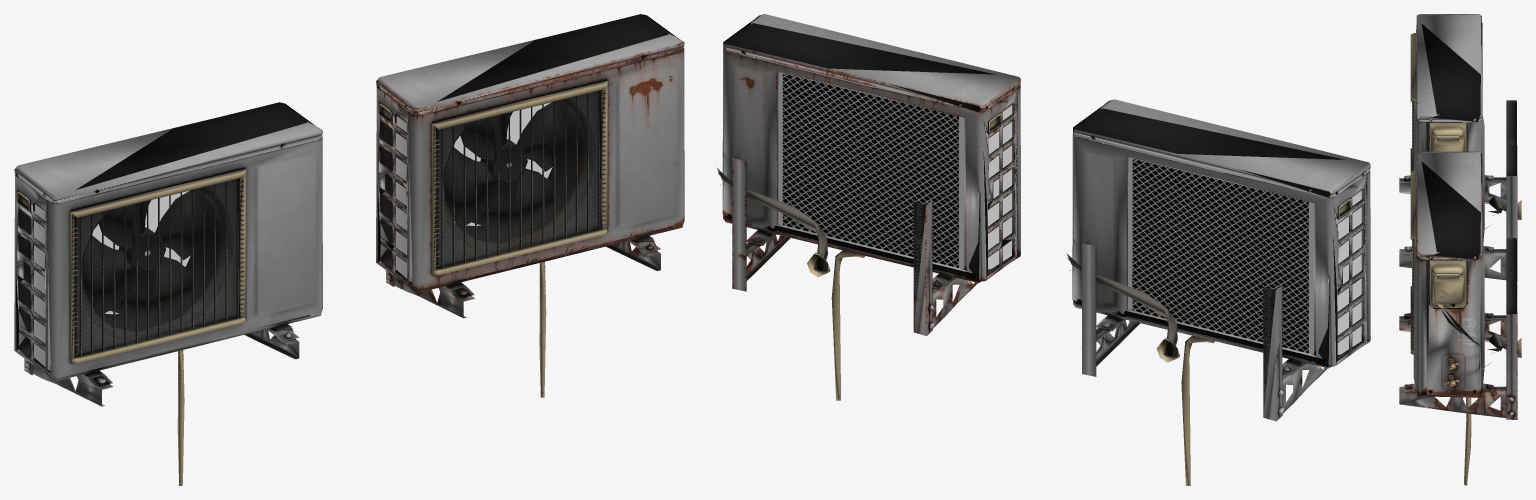
The model's file is exterior_aircon_unit.glb.
3 views of the same model, side by side, from view 1: azimuth 30°, elevation 25°; view 2: azimuth 150°, elevation 25°; view 3: azimuth 270°, elevation 25° (orthographic). The views are drawn at different scales.
Parts seen in each view (by area): view 1: exterior_aircon_unit_rusted, exterior_aircon_unit; view 2: exterior_aircon_unit, exterior_aircon_unit_rusted; view 3: exterior_aircon_unit_rusted, exterior_aircon_unit.
Boxes of the visible parts, left/top/right/bottom form: exterior_aircon_unit_rusted: left=376, top=14, right=684, bottom=397; exterior_aircon_unit: left=14, top=102, right=322, bottom=485; exterior_aircon_unit: left=1067, top=99, right=1370, bottom=485; exterior_aircon_unit_rusted: left=717, top=14, right=1020, bottom=400; exterior_aircon_unit_rusted: left=1399, top=151, right=1521, bottom=485; exterior_aircon_unit: left=1399, top=14, right=1521, bottom=282.
Bounding box in the file's own units: 1.78 × 0.9276 × 0.3742.
Materials: 4 (4 with a texture image).
